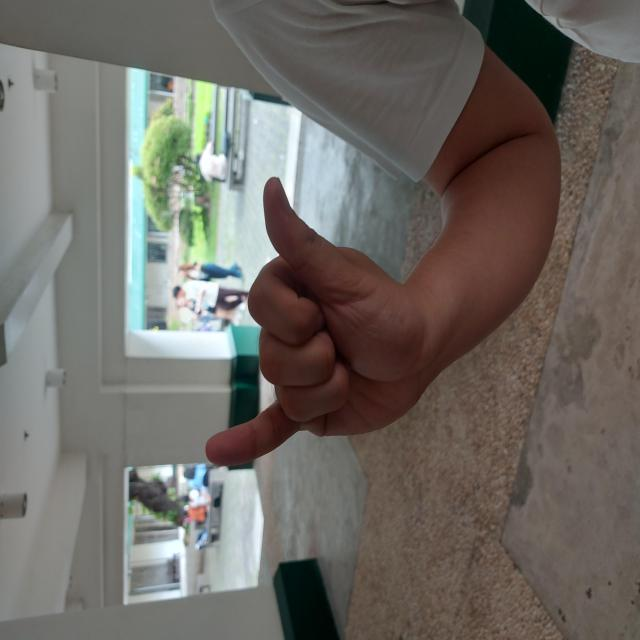Y: (170, 204, 465, 426)
